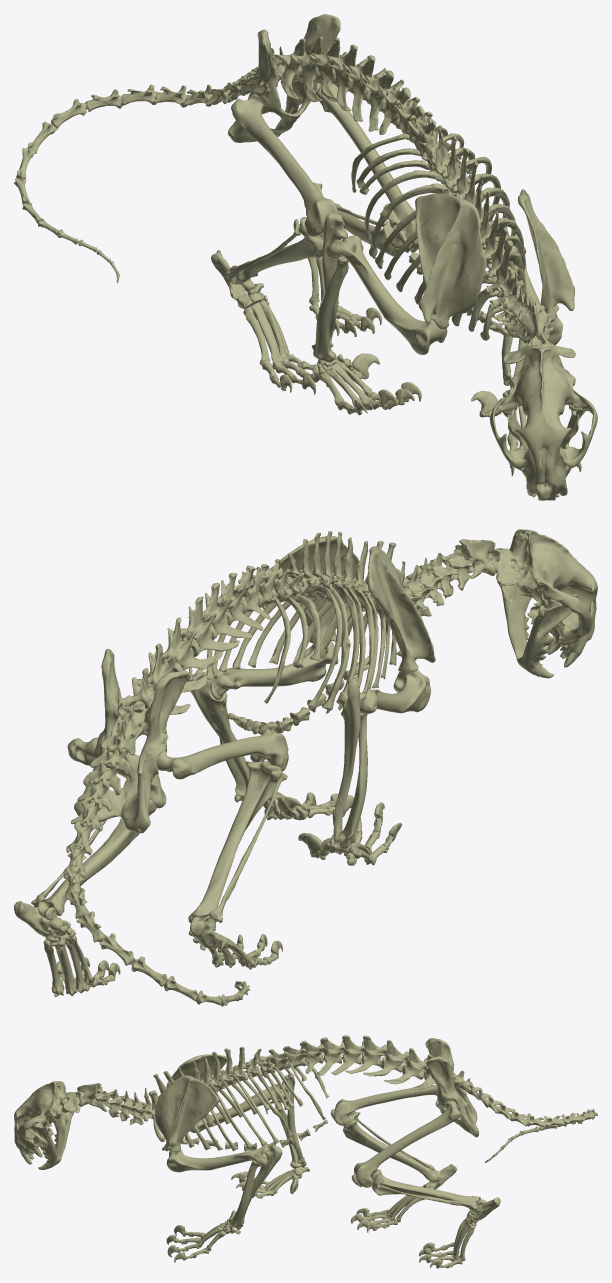
The model's file is sf-mountain-lion-r-996-7fa93e.glb.
3 renders of one model, top to bottom at view 1: azimuth 30°, elevation 25°; view 2: azimuth 150°, elevation 25°; view 3: azimuth 270°, elevation 25°, orthographic. The views are drawn at different scales.
Parts seen in each view (by area): view 1: Object_2; view 2: Object_2; view 3: Object_2.
Boxes of the visible parts, x1,y1,x2,y2 form: Object_2: (14, 14, 597, 500); Object_2: (14, 529, 597, 1006); Object_2: (14, 1035, 597, 1268).
Size of the model in its own units: 420 by 517 by 1293.
